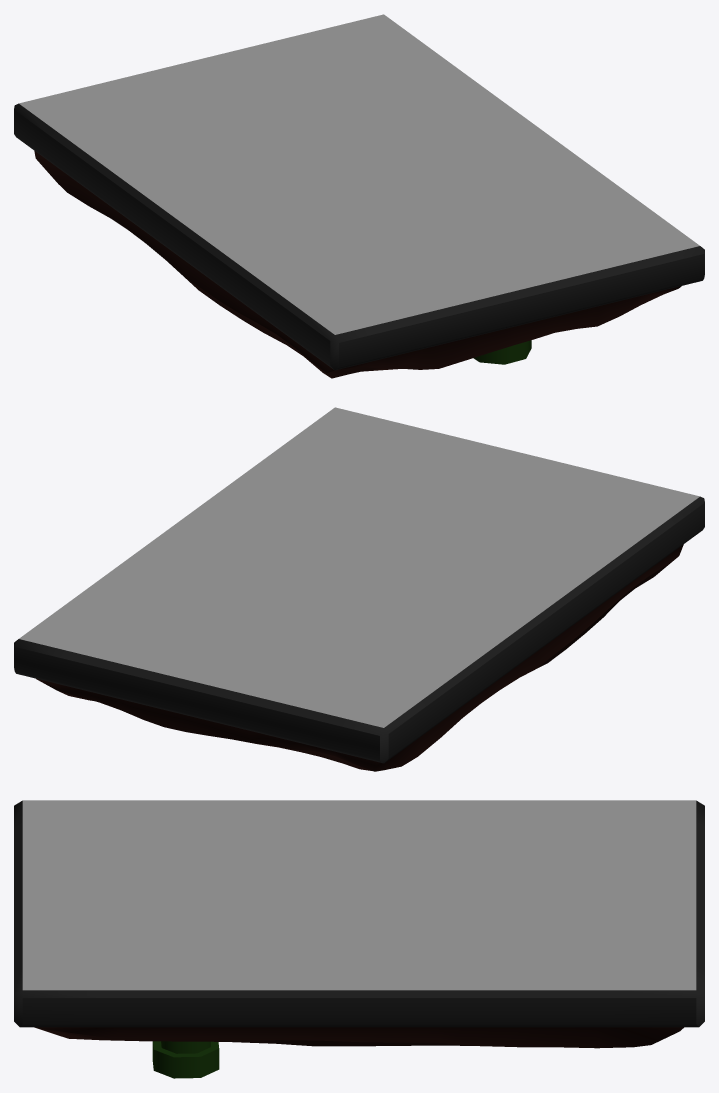
The model's file is MET_PlatformeTuyau_PetitMoyen_Pierre_01_LOD0.fbx.
The picture shows the model from 3 angles, top to bottom: view 1: azimuth 30°, elevation 25°; view 2: azimuth 150°, elevation 25°; view 3: azimuth 270°, elevation 25°; orthographic projection. The views are drawn at different scales.
Parts seen in each view (by area): view 1: MET_PlatformeTuyau_PetitMoyen_Pierre_01_LOD0; view 2: MET_PlatformeTuyau_PetitMoyen_Pierre_01_LOD0; view 3: MET_PlatformeTuyau_PetitMoyen_Pierre_01_LOD0.
Part boxes in pixels (x1,y1,x2,y2): MET_PlatformeTuyau_PetitMoyen_Pierre_01_LOD0: (14, 14, 704, 378); MET_PlatformeTuyau_PetitMoyen_Pierre_01_LOD0: (14, 407, 704, 771); MET_PlatformeTuyau_PetitMoyen_Pierre_01_LOD0: (14, 800, 704, 1078).
Size of the model in its own units: 400 by 133 by 600.
